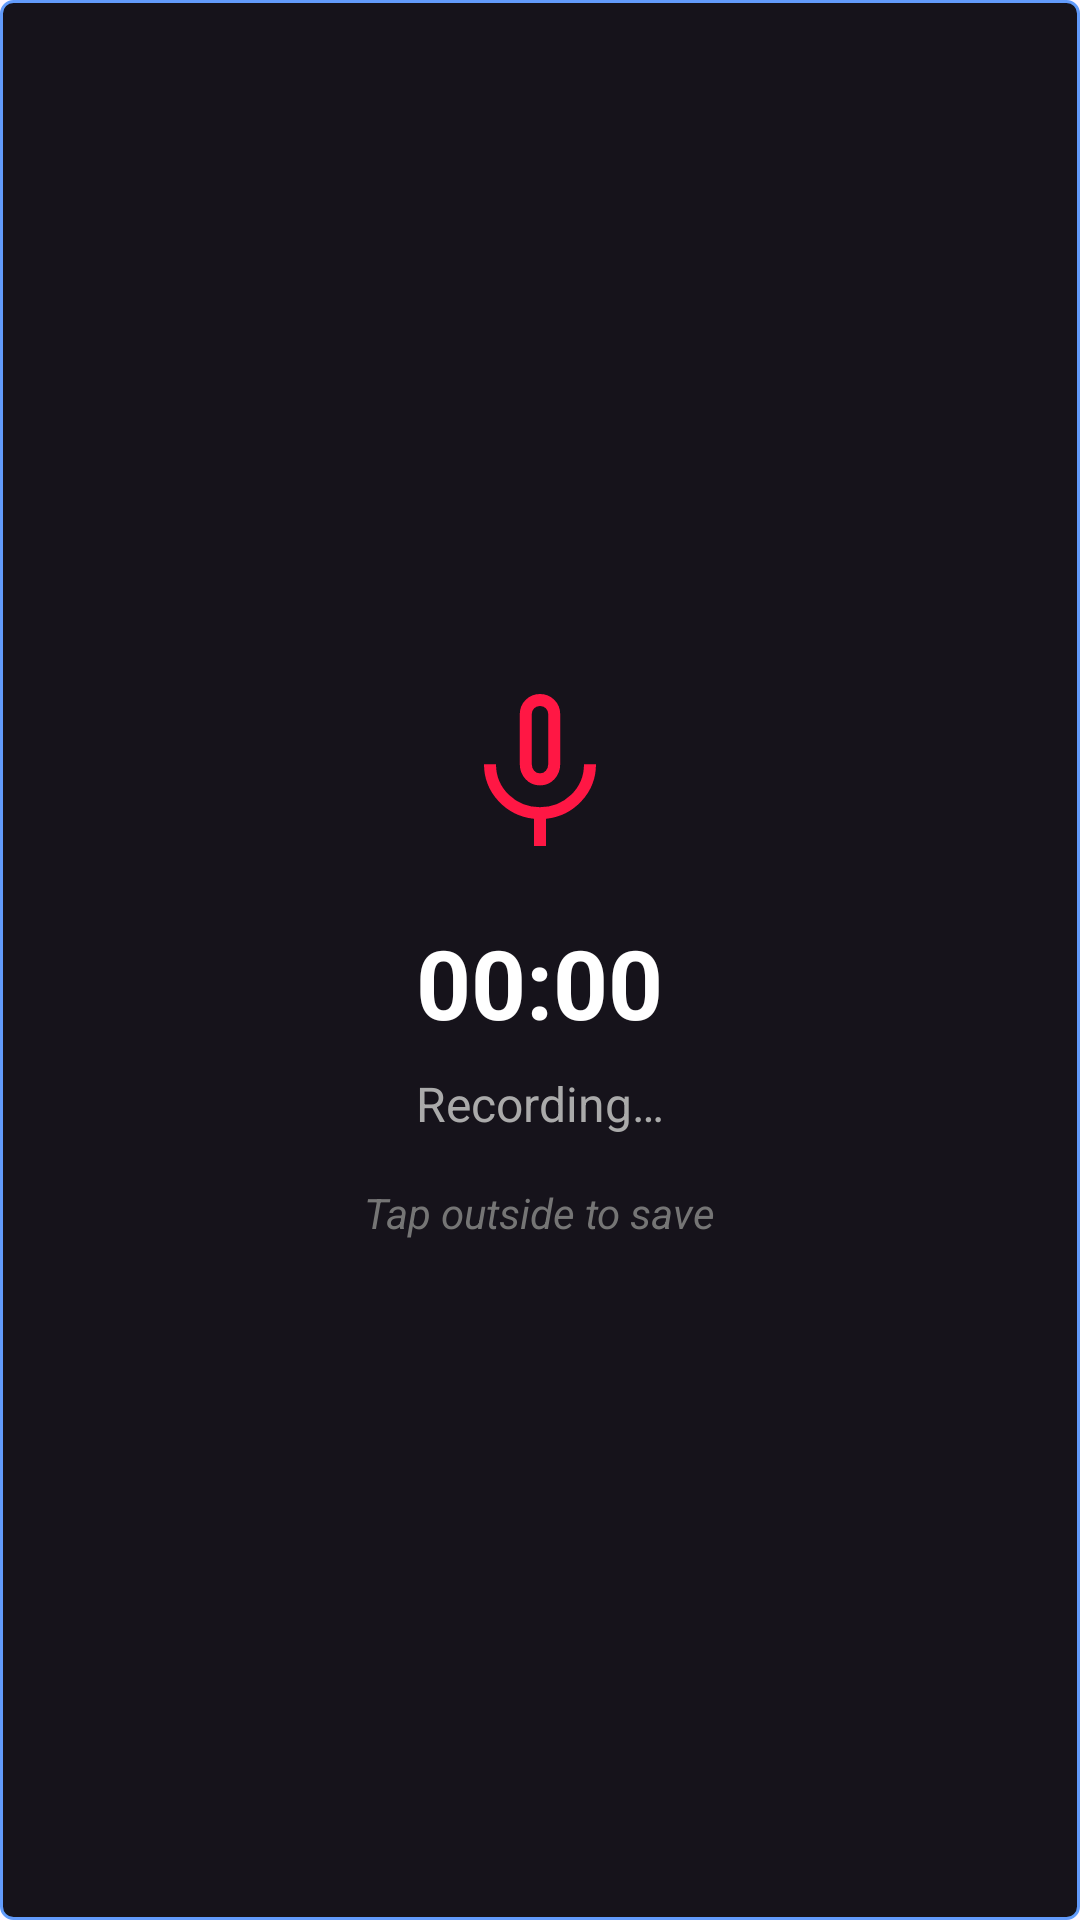

Icons on this 1080 x 1920 Android screen, each with the point to tap as point (x, y):
mic: point (540, 770)
